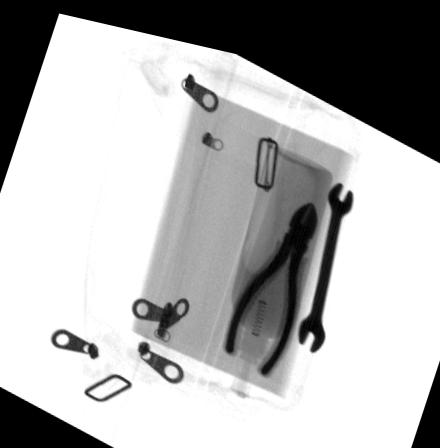Pliers: (223, 186, 319, 363)
Wrench: (298, 165, 353, 337)
